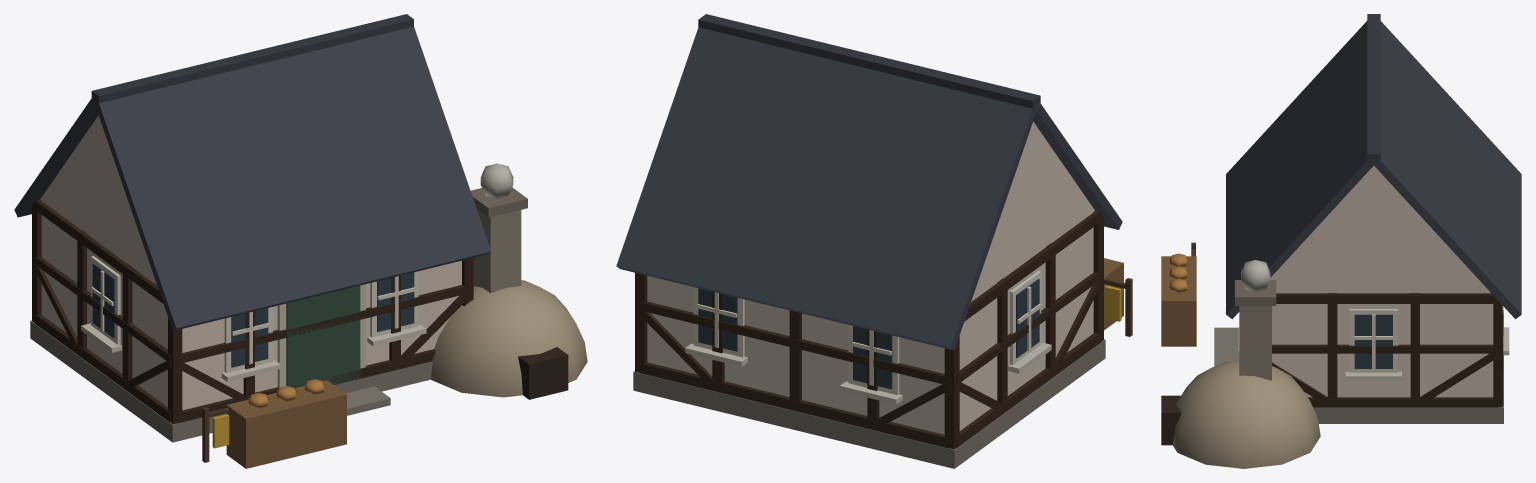
The model's file is procedural_bakery@3.glb.
The picture shows the model from 3 angles, left to right: view 1: azimuth 30°, elevation 25°; view 2: azimuth 150°, elevation 25°; view 3: azimuth 270°, elevation 25°; orthographic projection. The views are drawn at different scales.
Parts seen in each view (by area): view 1: part_0, part_4; view 2: part_0; view 3: part_0, part_4.
Boxes of the visible parts, x1,y1,x2,y2 form: part_0: (14, 14, 587, 468); part_4: (480, 163, 513, 198); part_0: (616, 14, 1132, 468); part_0: (1161, 14, 1521, 468); part_4: (1241, 260, 1270, 291).
Bounding box in the file's own units: 7.31 × 5.09 × 6.1.
